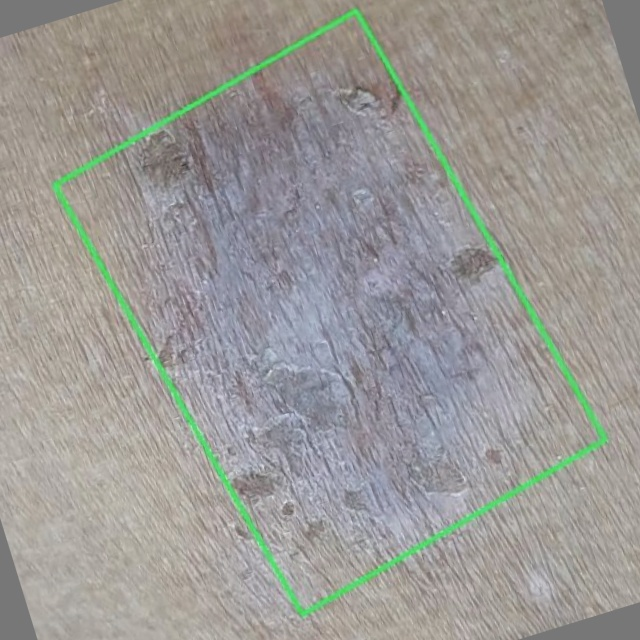Seborrheic Dermatitis: (54, 11, 605, 615)
